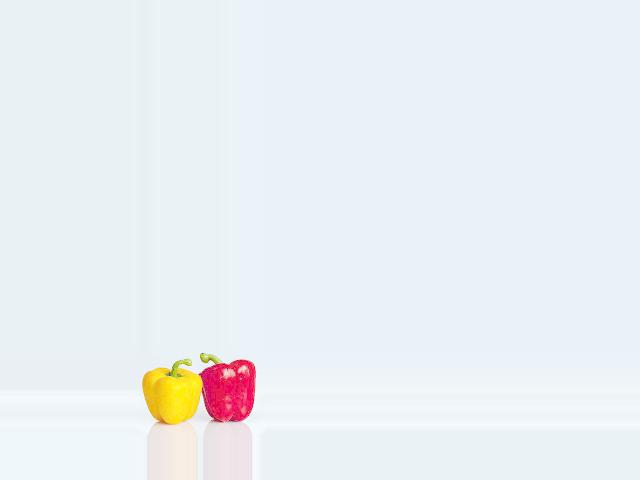bell_pepper: (197, 355, 261, 429)
